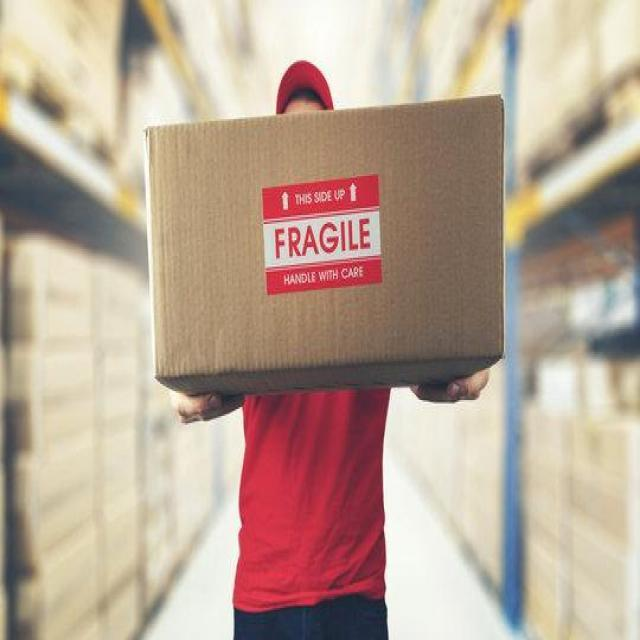box: (143, 83, 508, 398)
